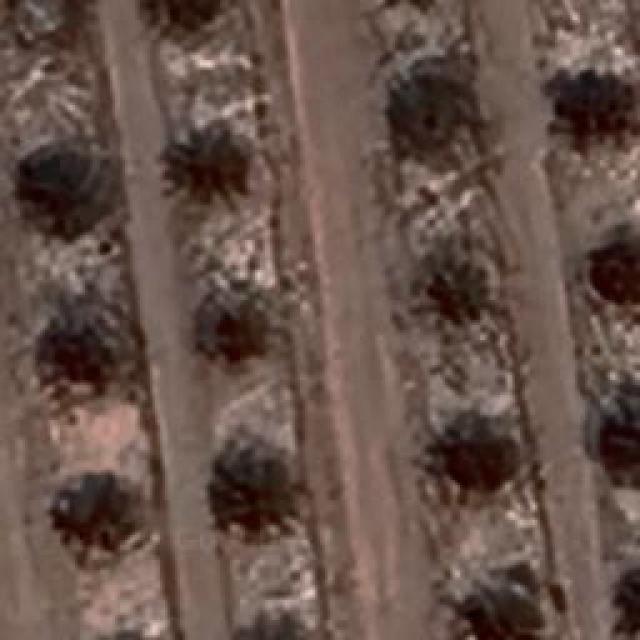PalmTree: (394, 247, 508, 365), (32, 292, 142, 390), (422, 408, 526, 508), (221, 448, 311, 548), (97, 17, 185, 118), (28, 140, 116, 232), (450, 575, 542, 640), (552, 85, 630, 160), (188, 134, 256, 208), (395, 91, 470, 154), (202, 285, 270, 353), (592, 392, 640, 488), (592, 238, 640, 314), (93, 118, 100, 524), (225, 610, 318, 640), (612, 562, 640, 640), (228, 620, 319, 640), (620, 563, 640, 639)
